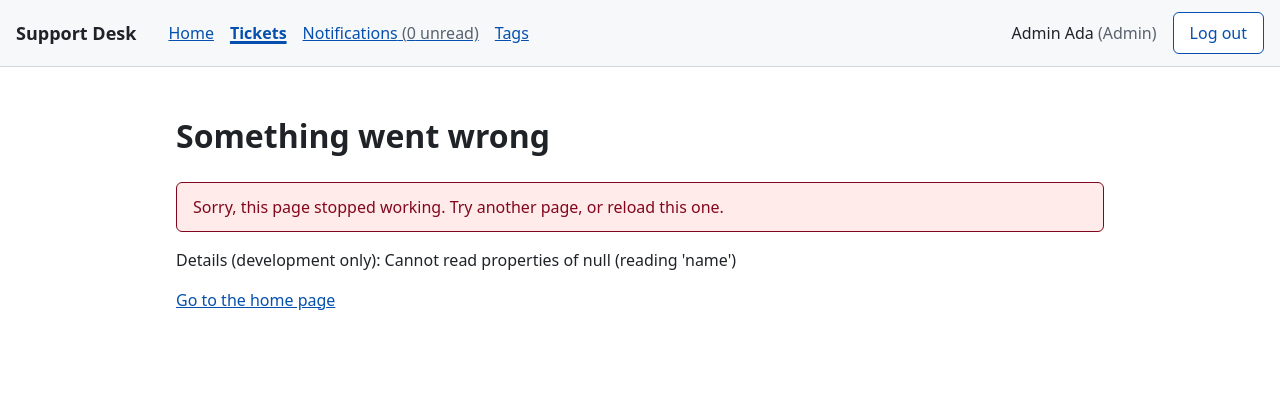
App routes › shows "Something went wrong" when a page crashes, and recovers on another page
Expected: the heading "Something went wrong" is shown, [176, 114, 550, 157]
Note: The navigation is outside the boundary, so it still works.
Click the link "Tickets".
click(258, 33)  # box [230, 22, 286, 44]
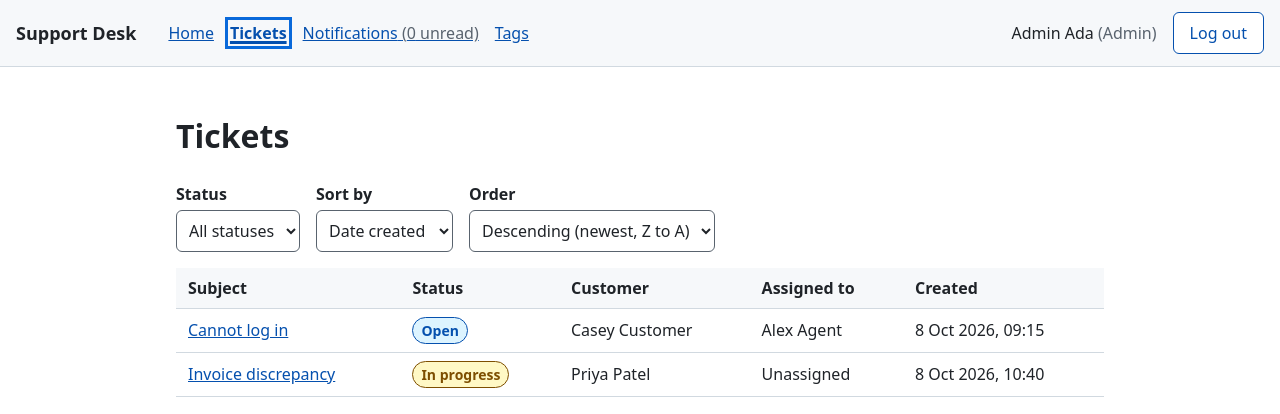
Result: the heading "Tickets" is shown at [176, 114, 289, 157]
Result: the heading "Something went wrong" is gone
